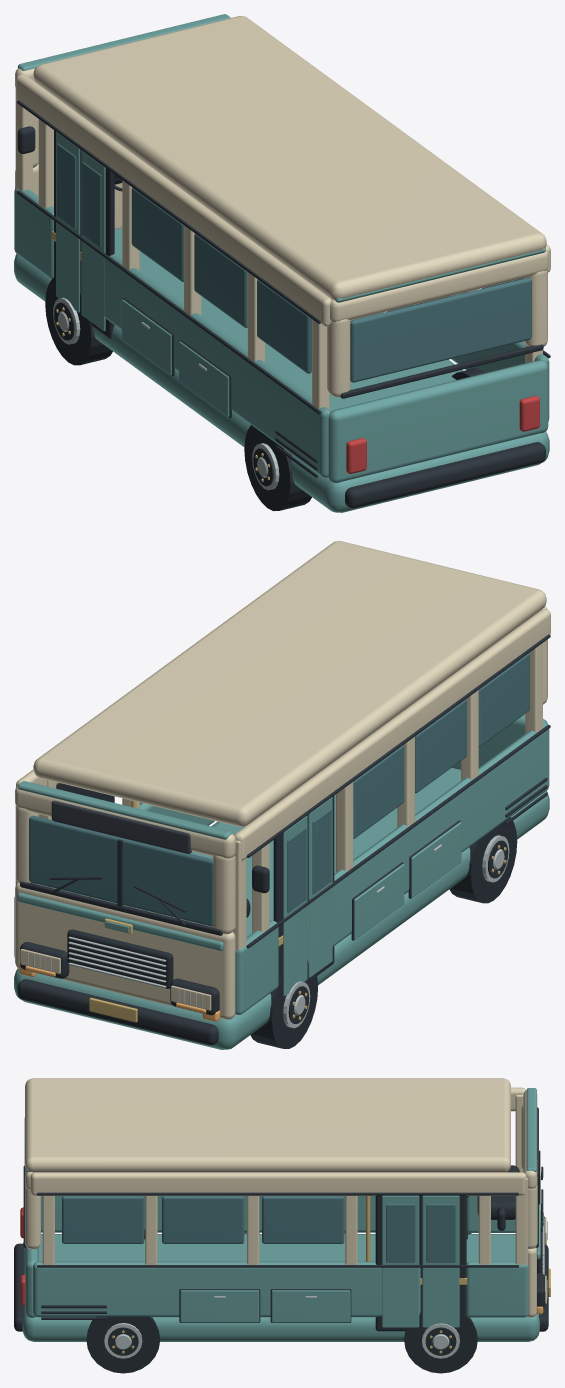
File: PROP_TKPShuttle.fbx
3 renders of one model, top to bottom at view 1: azimuth 30°, elevation 25°; view 2: azimuth 150°, elevation 25°; view 3: azimuth 270°, elevation 25°, orthographic. The views are drawn at different scales.
Parts seen in each view (by area): view 1: Coachwork C2 Bus Ivory, Coachwork C2 Bus Teal, Coachwork C2 Rubber, Rear windshield, Side window, Side window.001, Side window.002, Door glass.001, Door glass, Coachwork C2 Lamp Red, Coachwork C2 Reflective Tape; view 2: Coachwork C2 Bus Ivory, Coachwork C2 Bus Teal, Coachwork C2 Rubber, Front windshield, Coachwork C2 Reflective Tape, Side window.001, Side window, Side window.002, Coachwork C2 Sentry Vest, Door glass, Door glass.001, Coachwork C2 Tarnished Brass; view 3: Coachwork C2 Bus Ivory, Coachwork C2 Bus Teal, Coachwork C2 Rubber, Side window.005, Side window.003, Side window.004, Door glass.003, Door glass.002, Coachwork C2 Reflective Tape, Coachwork C2 Tarnished Brass.
Boxes of the visible parts, x1,y1,x2,y2 form: Coachwork C2 Bus Ivory: (15, 16, 550, 409); Coachwork C2 Bus Teal: (14, 14, 549, 512); Coachwork C2 Rubber: (17, 100, 550, 511); Rear windshield: (350, 277, 531, 382); Side window: (257, 279, 311, 373); Side window.001: (194, 233, 247, 327); Side window.002: (131, 187, 183, 281); Door glass.001: (57, 143, 76, 229); Door glass: (82, 162, 101, 247); Coachwork C2 Lamp Red: (346, 395, 539, 473); Coachwork C2 Reflective Tape: (53, 297, 279, 490); Coachwork C2 Bus Ivory: (15, 541, 550, 1019); Coachwork C2 Bus Teal: (14, 714, 549, 1049); Coachwork C2 Rubber: (17, 634, 550, 1048); Front windshield: (29, 815, 213, 926); Coachwork C2 Reflective Tape: (27, 835, 509, 1028); Side window.001: (415, 699, 466, 793); Side window: (478, 653, 529, 747); Side window.002: (353, 745, 404, 838); Coachwork C2 Sentry Vest: (51, 800, 191, 853); Door glass: (312, 808, 331, 894); Door glass.001: (287, 827, 306, 912); Coachwork C2 Tarnished Brass: (89, 800, 506, 1022); Coachwork C2 Bus Ivory: (25, 1078, 546, 1317); Coachwork C2 Bus Teal: (22, 1088, 543, 1341); Coachwork C2 Rubber: (14, 1150, 548, 1373); Side window.005: (262, 1196, 344, 1243); Side window.003: (62, 1196, 144, 1243); Side window.004: (162, 1196, 244, 1243); Door glass.003: (426, 1204, 455, 1262); Door glass.002: (386, 1204, 415, 1262); Coachwork C2 Reflective Tape: (104, 1217, 547, 1358); Coachwork C2 Tarnished Brass: (112, 1196, 550, 1353).
Bounding box in the file's own units: 263 × 266 × 612.
